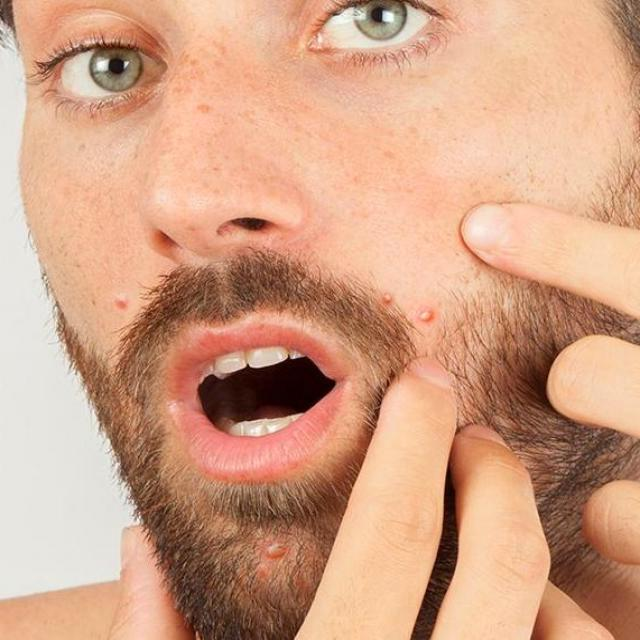Pimples: (416, 302, 436, 330), (114, 286, 131, 314)
